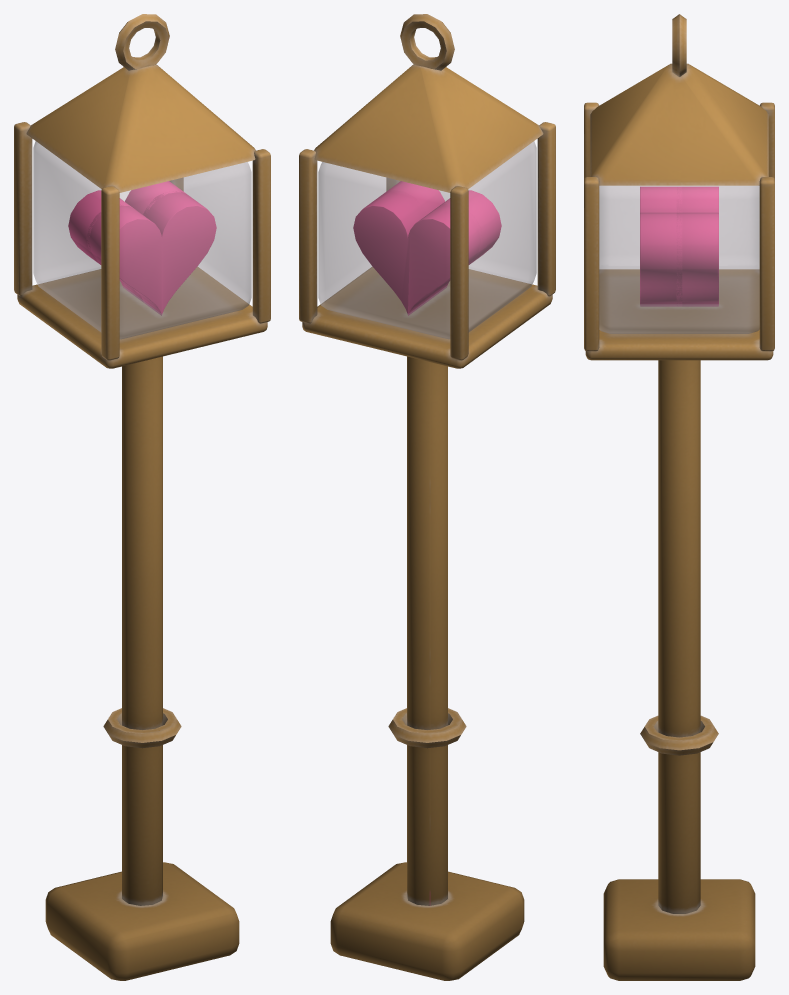
Rendered from tf_heart_lantern.fbx.
3 renders of one model, left to right at view 1: azimuth 30°, elevation 25°; view 2: azimuth 150°, elevation 25°; view 3: azimuth 270°, elevation 25°, orthographic.
Visible parts, largest first — view 1: tf_heart_lantern; view 2: tf_heart_lantern; view 3: tf_heart_lantern.
Boxes of the visible parts, left/top/right/bottom form: tf_heart_lantern: left=14, top=14, right=270, bottom=980; tf_heart_lantern: left=299, top=14, right=555, bottom=980; tf_heart_lantern: left=584, top=14, right=774, bottom=980.
Size of the model in its own units: 0.63 by 3.41 by 0.63.
3 materials, 3 textured.
